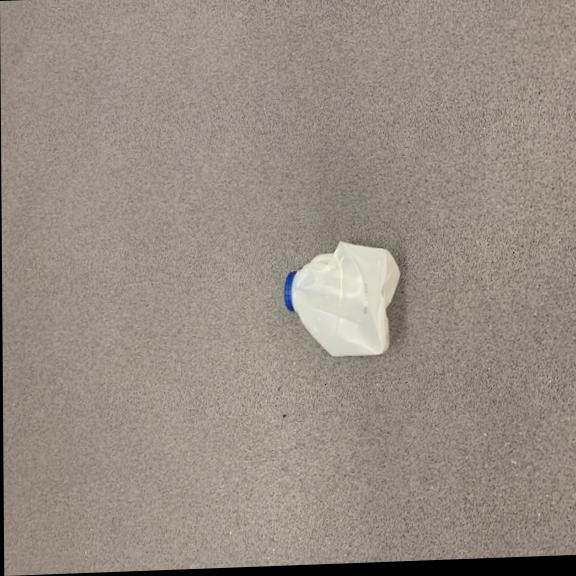Plastik: (279, 230, 406, 361)
